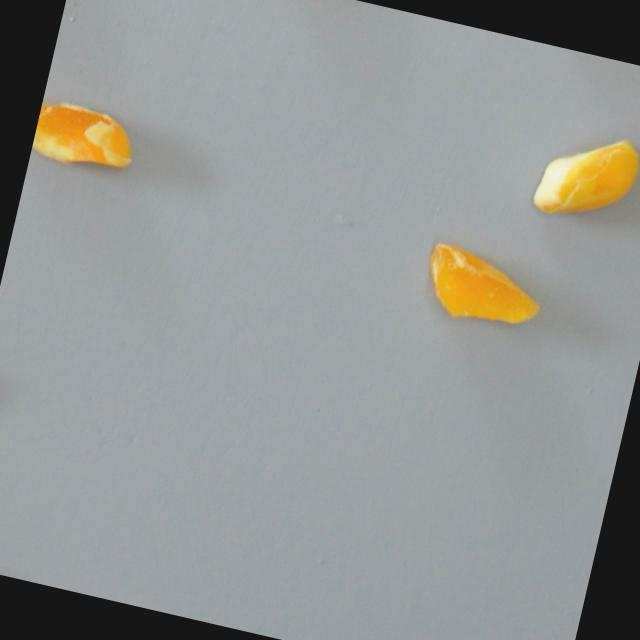pelicula: (415, 238, 553, 337), (528, 119, 640, 234), (29, 97, 140, 180)
